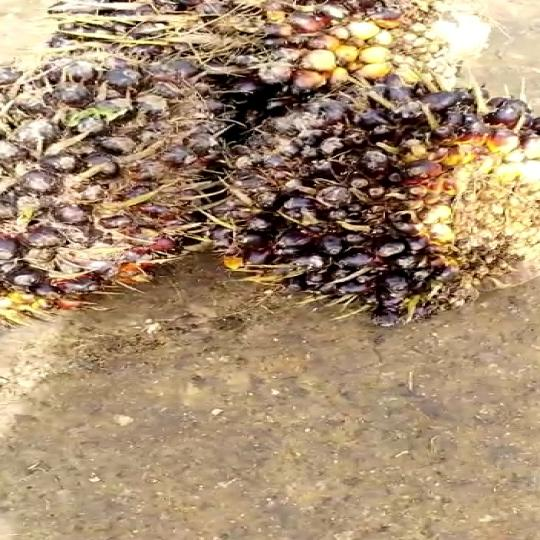mentah: (219, 85, 540, 329), (1, 56, 230, 287)
